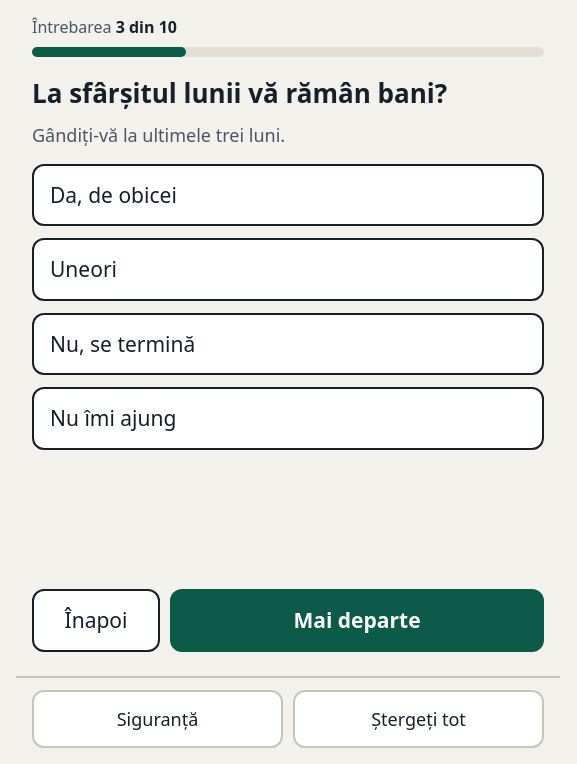
parcurgerea chestionarului › la o intrebare cu butoane, fara alegere apare ce este de facut
Expected: the text "3 din 10" is shown, x1=116 y1=16 x2=177 y2=38
Click the button "Mai departe".
click(357, 621)  # box x1=170 y1=590 x2=544 y2=652
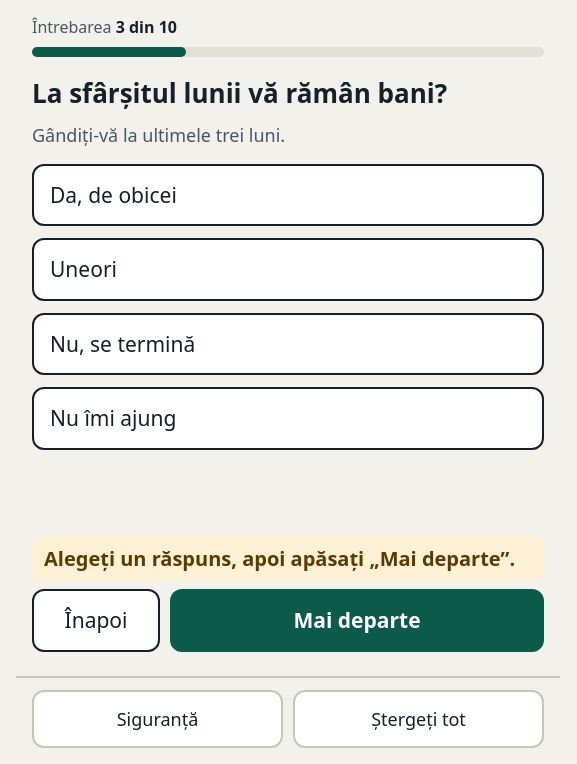
Expected: the text "3 din 10" is shown, x1=116 y1=16 x2=177 y2=38
Result: the message shows "Alegeți un răspuns" at x1=44 y1=546 x2=515 y2=572
